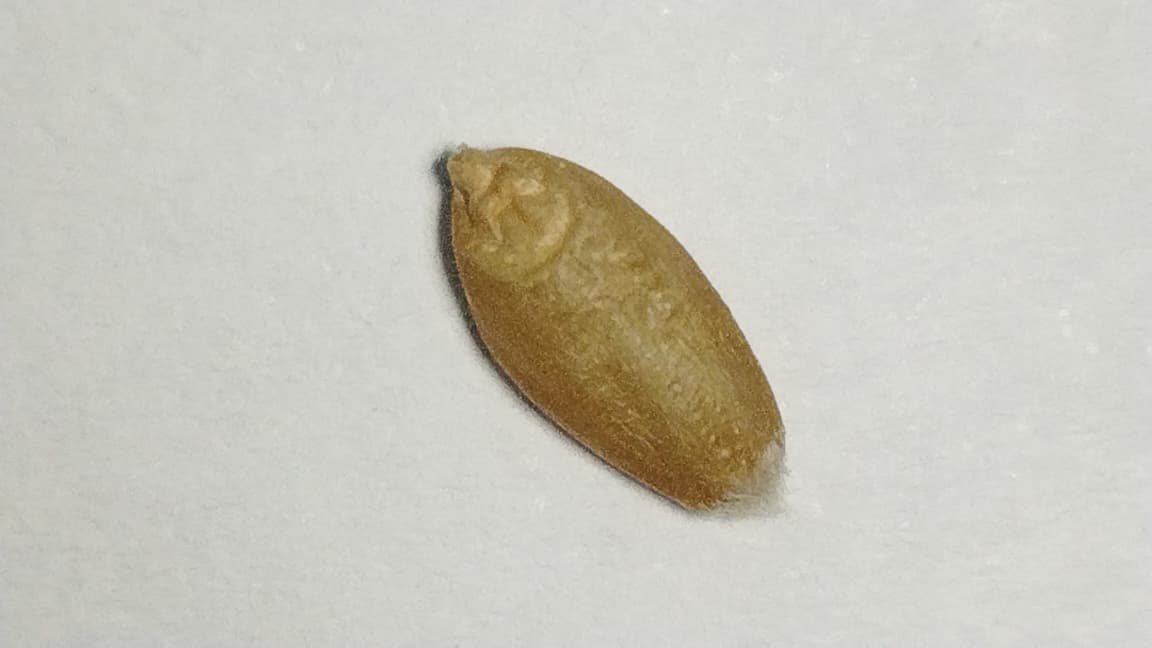healthy: (438, 148, 783, 510)
